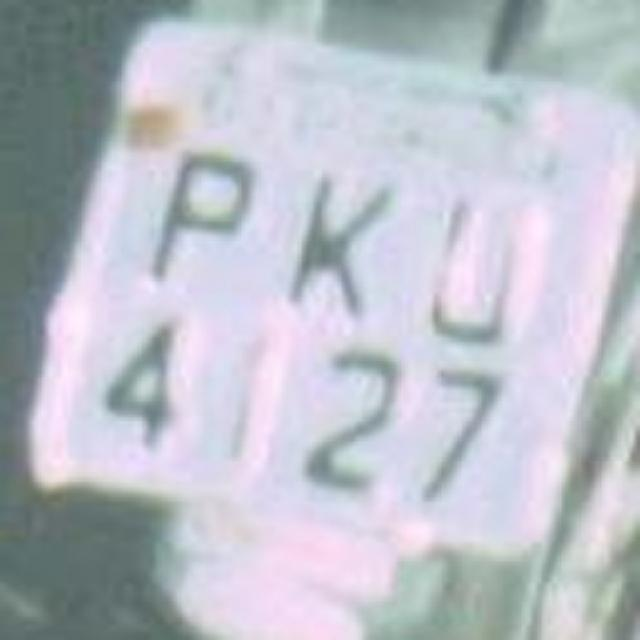2: (269, 324, 416, 511)
4: (71, 272, 204, 468)
7: (376, 340, 524, 540)
K: (272, 152, 400, 332)
P: (140, 120, 268, 308)
U: (405, 168, 540, 360)
